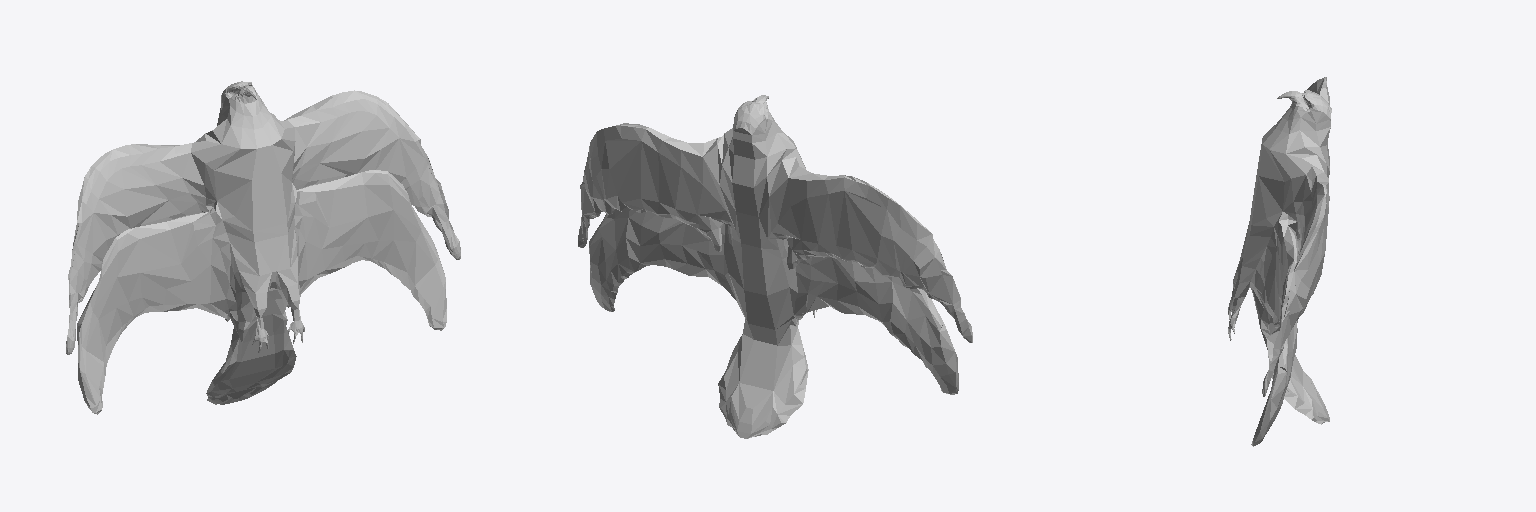
File: oiseaux.OBJ
3 views of the same model, side by side, from view 1: azimuth 30°, elevation 25°; view 2: azimuth 150°, elevation 25°; view 3: azimuth 270°, elevation 25° (orthographic).
Parts seen in each view (by area): view 1: Group4335; view 2: Group4335; view 3: Group4335.
Part boxes in pixels (bbox=[...]): Group4335: bbox=[66, 81, 460, 414]; Group4335: bbox=[578, 95, 972, 438]; Group4335: bbox=[1228, 77, 1331, 446].
Bounding box in the file's own units: 17.37 × 13.79 × 3.95.